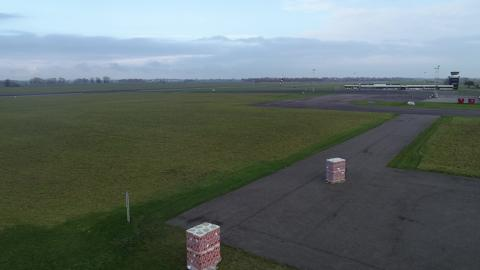RockwoolPallet: (325, 155, 346, 181)
